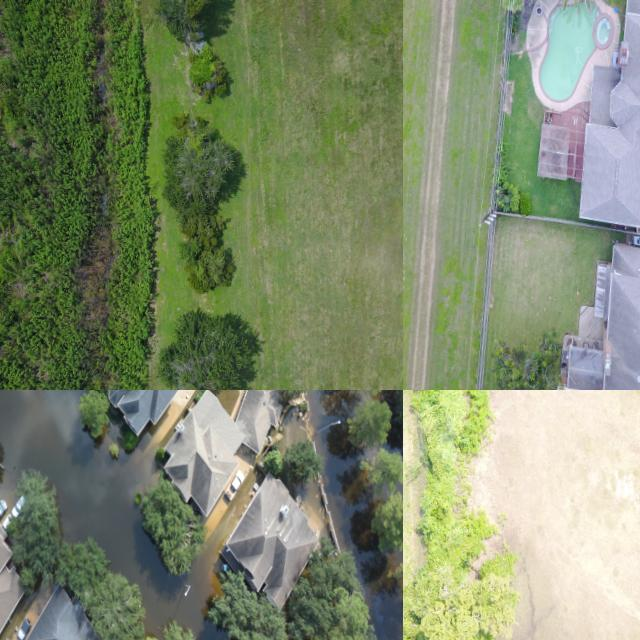fire: (0, 390, 185, 556), (288, 390, 403, 640)
